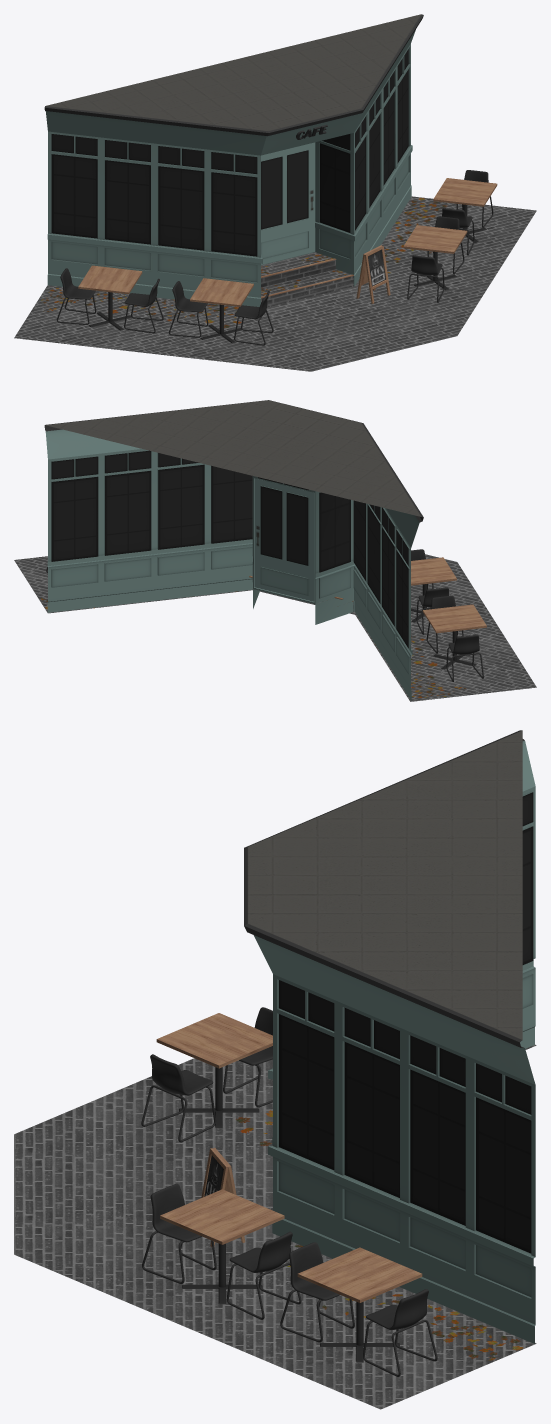
File: corner_cafe.glb
3 renders of one model, top to bottom at view 1: azimuth 30°, elevation 25°; view 2: azimuth 150°, elevation 25°; view 3: azimuth 270°, elevation 25°, orthographic. The views are drawn at different scales.
Visible parts, largest first — view 1: Cube.001, Plane, Cube.003, Cube, table.001, table, table.002, table.003, Cube.006, group_1.002, group_1.001, group_1.005 (+2 smaller); view 2: Cube.001, Plane, Cube.003, table.001, table, group_1.002; view 3: Cube.001, Plane, table.002, table.003, table, group_1.007, group_1, group_1.006, group_1.005, group_1.004, Cube.006.
Part boxes in pixels (x1,y1,x2,y2): Cube.001: (44,14,423,306); Plane: (14,196,536,371); Cube.003: (261,142,315,264); Cube: (261,252,353,307); table.001: (78,265,142,330); table: (190,278,253,343); table.002: (403,225,467,290); table.003: (433,178,497,242); Cube.006: (364,246,390,303); group_1.002: (60,268,95,299); group_1.001: (172,281,207,312); group_1.005: (411,255,442,275); Cube.001: (44,400,423,700); Plane: (14,554,536,701); Cube.003: (254,478,314,602); table.001: (422,604,486,669); table: (411,557,456,622); group_1.002: (448,634,479,654); Cube.001: (244,730,535,1343); Plane: (14,1044,536,1409); table.002: (160,1189,284,1304); table.003: (297,1247,422,1362); table: (156,1013,272,1127); group_1.007: (366,1289,428,1329); group_1: (150,1054,213,1095); group_1.006: (229,1231,292,1272); group_1.005: (150,1184,201,1242); group_1.004: (289,1242,339,1300); Cube.006: (201,1148,228,1247).
Size of the model in its own units: 11.17 by 3.75 by 5.74.
Materials: 1 (1 with a texture image).
